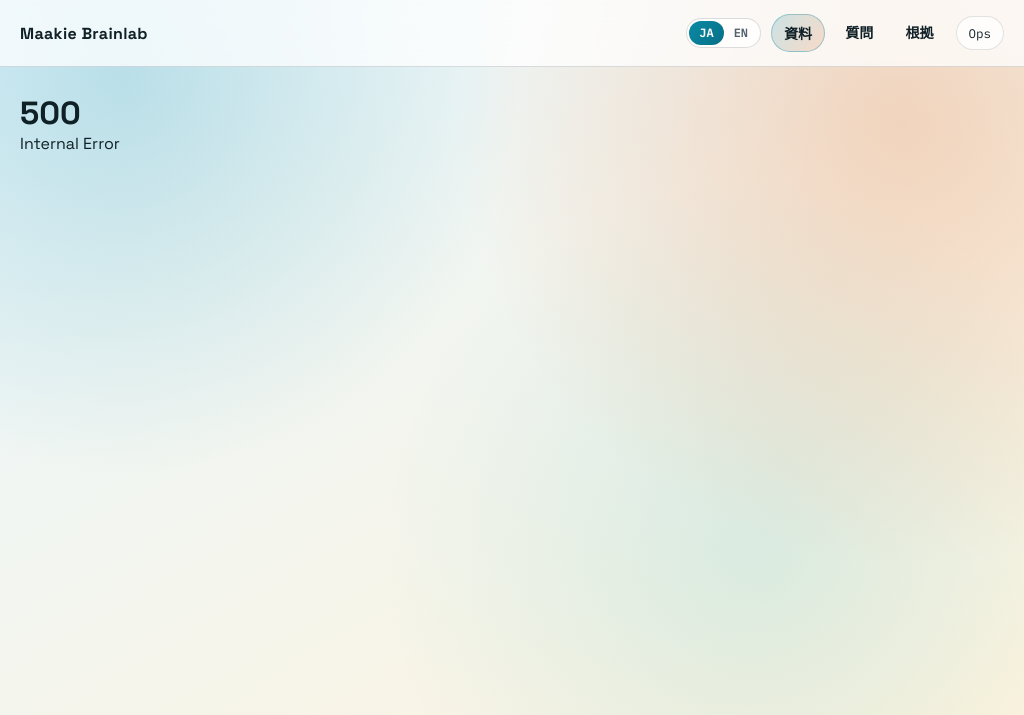
Test: dashboard smoke › loads the simplified surfaces and opens ops when needed
Expected: the heading "500" is shown, [20, 93, 81, 133]
Expected: the link "資料" is shown, [771, 14, 825, 52]
Click the link "質問" at (859, 33), box [845, 24, 873, 42]
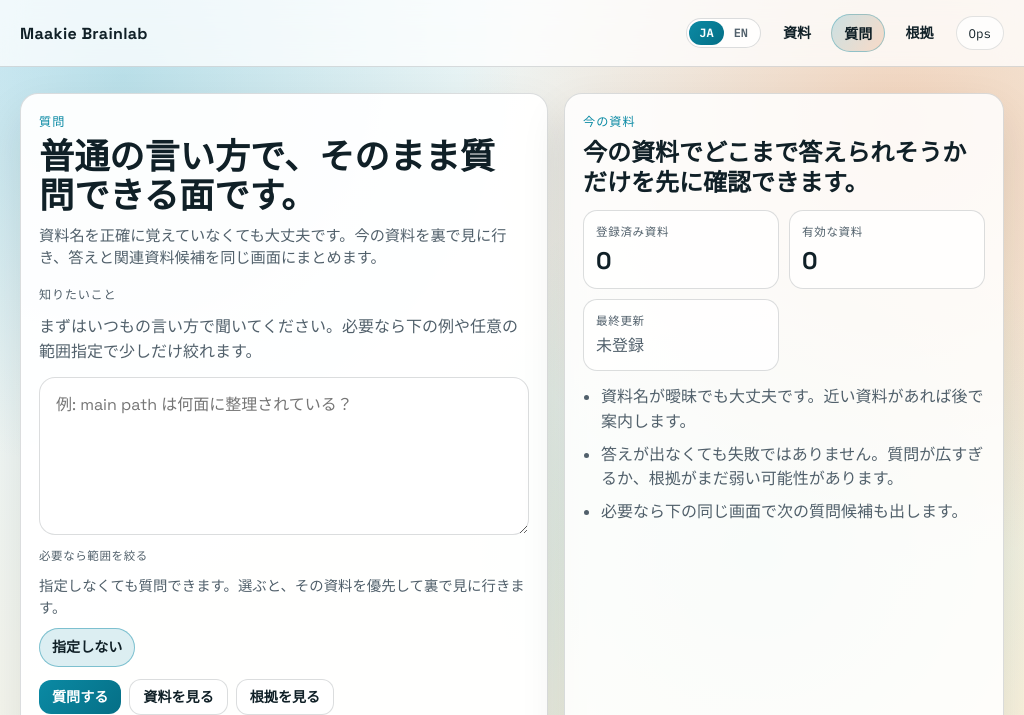
Expected: the heading "普通の言い方で、そのまま質問できる面です。" is shown, [39, 138, 529, 215]
Click the link to "/evidence" at (919, 33), box [905, 24, 933, 42]
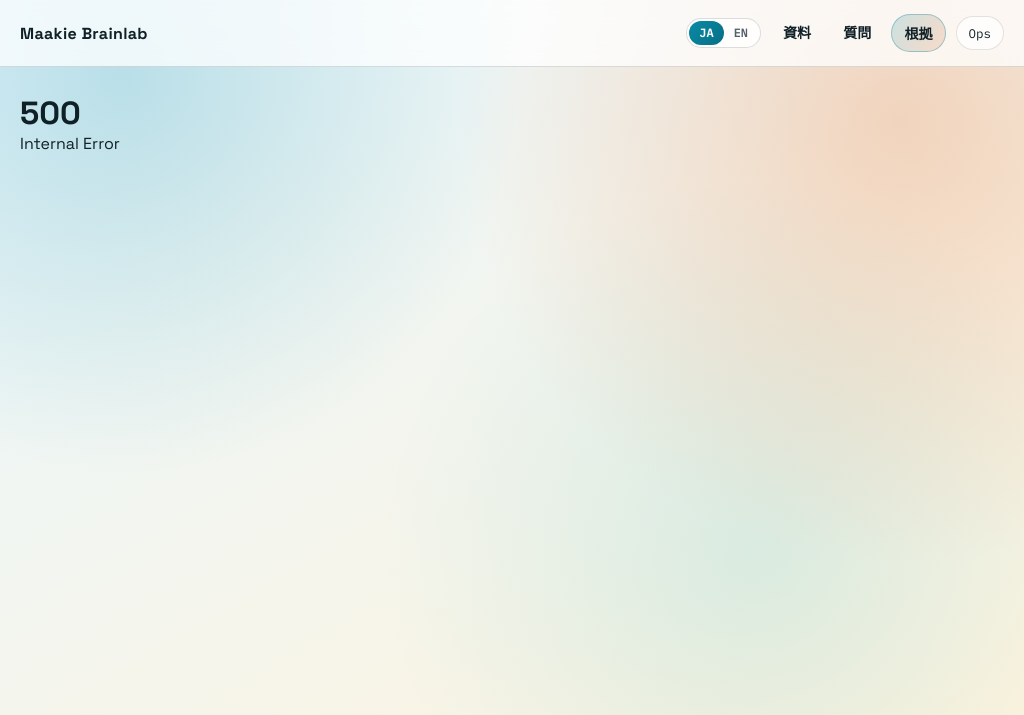
Expected: the heading "500" is shown, [20, 93, 81, 133]
Click the link "Ops" at (981, 33), box [956, 16, 1005, 50]
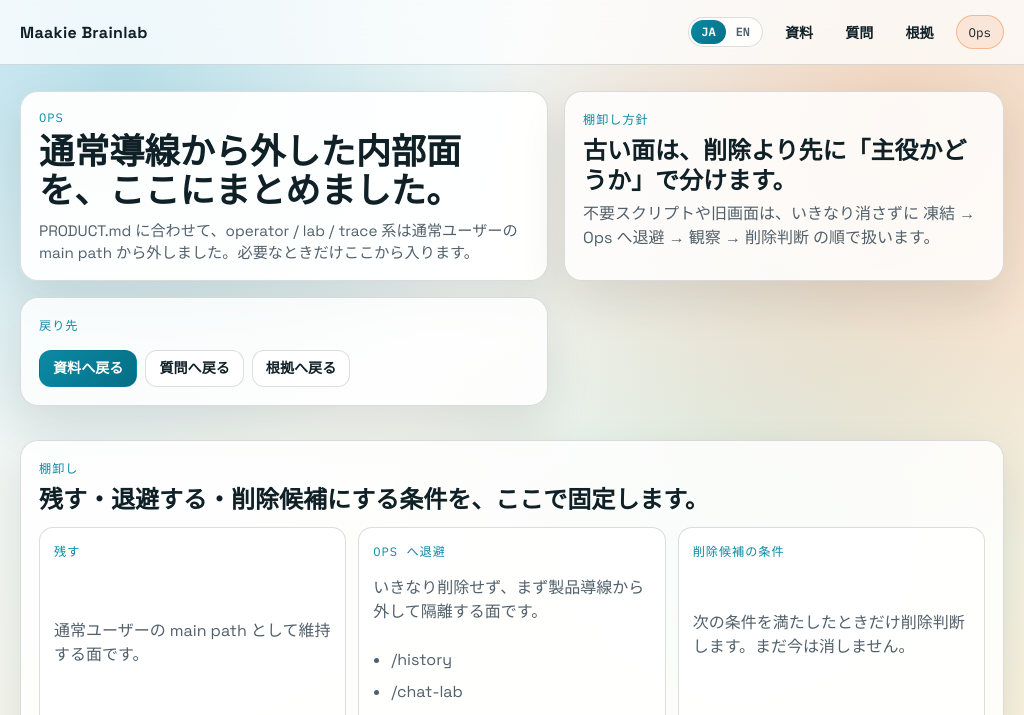
Expected: the heading "通常導線から外した内部面を、ここにまとめました。" is shown, [39, 133, 529, 210]
